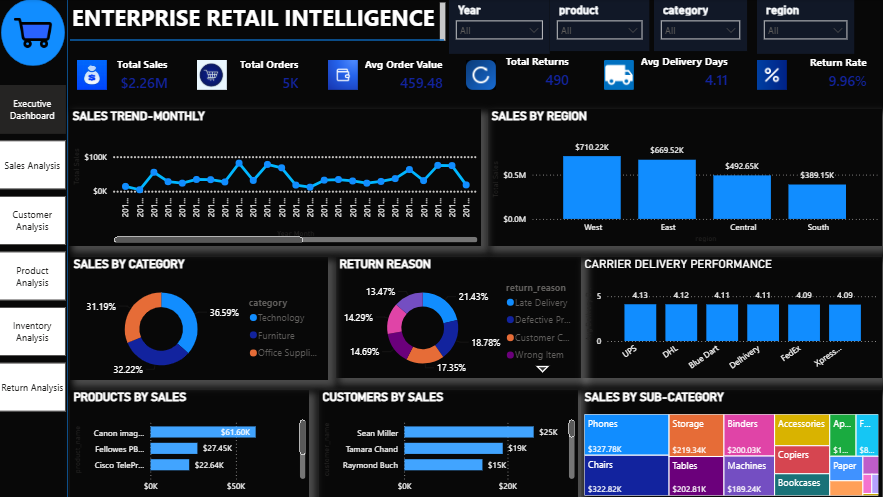

The dashboard page shown, as its layout file describes it:
{"tool":"powerbi","page":{"name":"Executive Dashboard","canvas":[1280,720],"ordinal":0},"visuals":[{"type":"slicer","fields":{"Values":["DimDate.Year"]},"box":[649.4,0,145.4,79.2],"z":0},{"type":"cardVisual","fields":{"Data":["DimDate.Total Orders"]},"box":[273.6,63.4,188.6,99.4],"z":1000},{"type":"cardVisual","fields":{"Data":["DimDate.Total Sales"]},"box":[102.2,63.4,171.4,99.4],"z":2000},{"type":"cardVisual","fields":{"Data":["DimDate.Average Order Value"]},"box":[462.2,63.4,207.4,99.4],"z":3000},{"type":"cardVisual","fields":{"Data":["DimDate.Return Rate"]},"box":[1080,59,200,100],"z":4000},{"type":"cardVisual","fields":{"Data":["DimDate.Total Returns"]},"box":[661,59,190.1,99.4],"z":5000},{"type":"slicer","fields":{"Values":["public orders.region"]},"box":[1093,0,139.7,79.2],"z":6000},{"type":"slicer","fields":{"Values":["public products.category"]},"box":[944.6,0,133.9,74.9],"z":7000},{"type":"slicer","fields":{"Values":["public products.product_name"]},"box":[794.9,0,142.6,74.9],"z":8000},{"type":"cardVisual","fields":{"Data":["DimDate.Average Delivery Days"]},"box":[859.7,59,220.3,99.4],"z":9000},{"type":"lineChart","title":"SALES TREND-MONTHLY","fields":{"Y":["DimDate.Total Sales"],"Category":["DimDate.Year Month"]},"box":[102.2,158.4,593.3,197.3],"z":10000},{"type":"donutChart","title":"SALES BY CATEGORY","fields":{"Category":["public products.category"],"Y":["DimDate.Total Sales"]},"box":[103.7,371.5,371.5,177.1],"z":11000},{"type":"clusteredBarChart","title":"PRODUCTS BY SALES","fields":{"Category":["public products.product_name"],"Y":["DimDate.Total Sales"]},"box":[103.7,563,344.2,157],"z":12000},{"type":"clusteredBarChart","title":"CUSTOMERS BY SALES","fields":{"Category":["public customers.customer_name"],"Y":["DimDate.Total Sales"]},"box":[462.2,563,373,157],"z":13000},{"type":"donutChart","title":"RETURN REASON","fields":{"Y":["DimDate.Total Returns"],"Category":["public returns.return_reason"]},"box":[486.7,371.5,352.8,174.2],"z":14000},{"type":"textbox","box":[102.2,0,547.2,74.9],"z":15000},{"type":"shape","box":[103.7,34.6,538.6,49],"z":16000},{"type":"shape","box":[0,0,100.8,720],"z":17000},{"type":"treemap","title":" SALES BY SUB-CATEGORY","fields":{"Group":["public products.sub_category"],"Values":["DimDate.Total Sales"]},"box":[839.5,563,433.4,157],"z":18000},{"type":"shape","box":[4.3,0,92.2,96.5],"z":19000},{"type":"image","box":[113.8,87.8,43.2,43.2],"z":26000},{"type":"image","box":[286.6,87.8,43.2,43.2],"z":27000},{"type":"image","box":[475.2,87.8,43.2,43.2],"z":28000},{"type":"image","box":[872.6,87.8,43.2,43.2],"z":29000},{"type":"image","box":[673.9,87.8,43.2,43.2],"z":30000},{"type":"image","box":[1093,87.8,43.2,43.2],"z":31000},{"type":"image","box":[13,17.3,74.9,63.4],"z":32000},{"type":"pageNavigator","box":[1.4,123.8,96.5,472.3],"z":33000},{"type":"clusteredColumnChart","title":"SALES BY REGION","fields":{"Category":["public orders.region"],"Y":["DimDate.Total Sales"]},"box":[705.6,158.4,567.4,197.3],"z":34000},{"type":"clusteredColumnChart","title":"CARRIER DELIVERY PERFORMANCE","fields":{"Category":["public transportation_logistics.carrier_name"],"Y":["DimDate.Avg Delivery Days"]},"box":[840,372,433,174],"z":35000}]}

Visuals, with their boxes on the page's 1280x720 design canvas (x1, y1, x2, y2). These are canvas units, not pixel positions in the 883x497 screenshot, which may show the page scaled, cropped or inside an application window:
slicer - DimDate.Year: bbox(649, 0, 795, 79)
cardVisual - DimDate.Total Orders: bbox(274, 63, 462, 163)
cardVisual - DimDate.Total Sales: bbox(102, 63, 274, 163)
cardVisual - DimDate.Average Order Value: bbox(462, 63, 670, 163)
cardVisual - DimDate.Return Rate: bbox(1080, 59, 1280, 159)
cardVisual - DimDate.Total Returns: bbox(661, 59, 851, 158)
slicer - public orders.region: bbox(1093, 0, 1233, 79)
slicer - public products.category: bbox(945, 0, 1078, 75)
slicer - public products.product_name: bbox(795, 0, 938, 75)
cardVisual - DimDate.Average Delivery Days: bbox(860, 59, 1080, 158)
"SALES TREND-MONTHLY" lineChart: bbox(102, 158, 696, 356)
"SALES BY CATEGORY" donutChart: bbox(104, 372, 475, 549)
"PRODUCTS BY SALES" clusteredBarChart: bbox(104, 563, 448, 720)
"CUSTOMERS BY SALES" clusteredBarChart: bbox(462, 563, 835, 720)
"RETURN REASON" donutChart: bbox(487, 372, 840, 546)
textbox: bbox(102, 0, 649, 75)
shape: bbox(104, 35, 642, 84)
shape: bbox(0, 0, 101, 720)
" SALES BY SUB-CATEGORY" treemap: bbox(840, 563, 1273, 720)
shape: bbox(4, 0, 96, 96)
image: bbox(114, 88, 157, 131)
image: bbox(287, 88, 330, 131)
image: bbox(475, 88, 518, 131)
image: bbox(873, 88, 916, 131)
image: bbox(674, 88, 717, 131)
image: bbox(1093, 88, 1136, 131)
image: bbox(13, 17, 88, 81)
pageNavigator: bbox(1, 124, 98, 596)
"SALES BY REGION" clusteredColumnChart: bbox(706, 158, 1273, 356)
"CARRIER DELIVERY PERFORMANCE" clusteredColumnChart: bbox(840, 372, 1273, 546)
